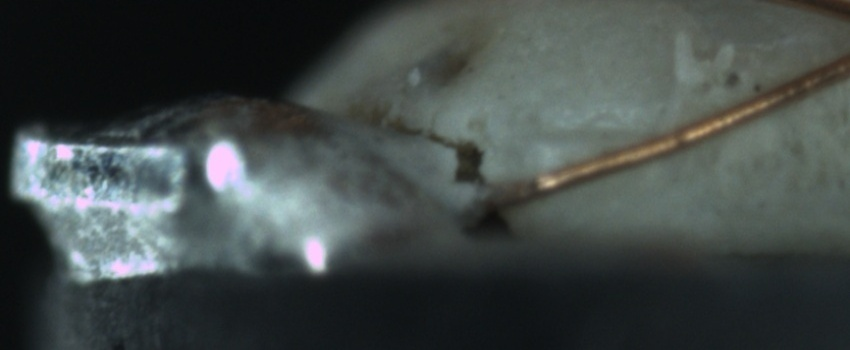DL: (527, 100, 663, 162)
